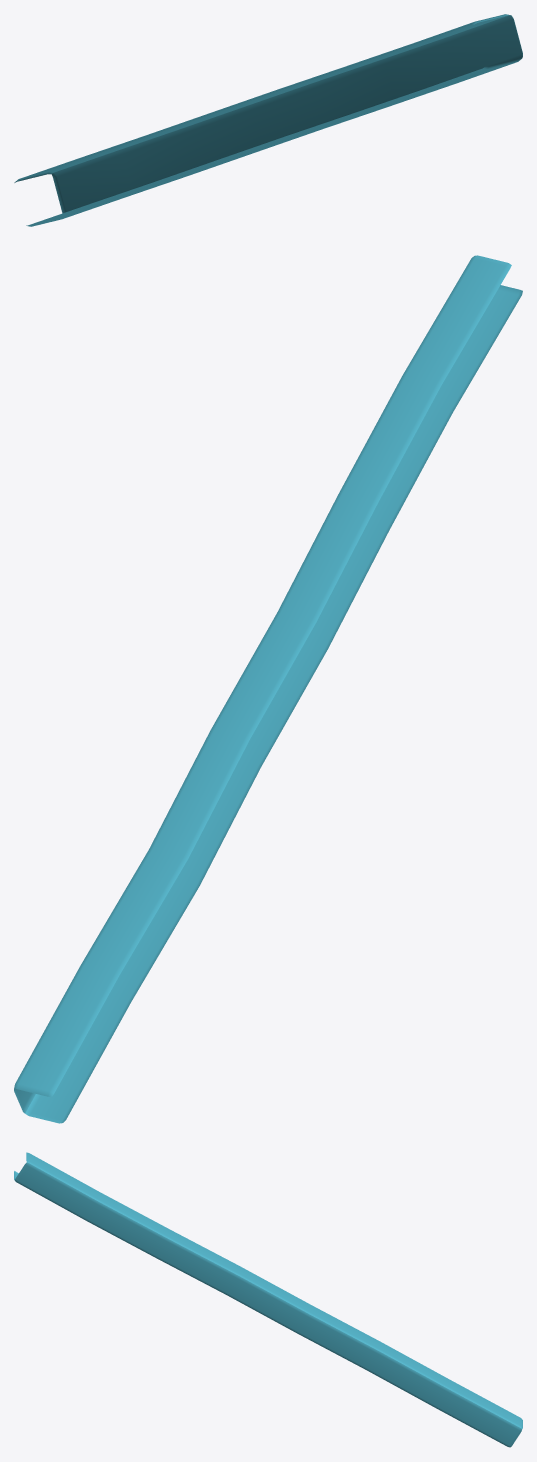
3 renders of one model, top to bottom at view 1: azimuth 30°, elevation 25°; view 2: azimuth 150°, elevation 25°; view 3: azimuth 270°, elevation 25°, orthographic. The views are drawn at different scales.
Visible parts, largest first — view 1: polySurface780; view 2: polySurface780; view 3: polySurface780.
Part boxes in pixels (left/top/right/bottom): polySurface780: left=14, top=14, right=522, bottom=226; polySurface780: left=14, top=255, right=522, bottom=1123; polySurface780: left=14, top=1152, right=522, bottom=1447.
Size of the model in its own units: 0.2253 by 2.38 by 3.82.
